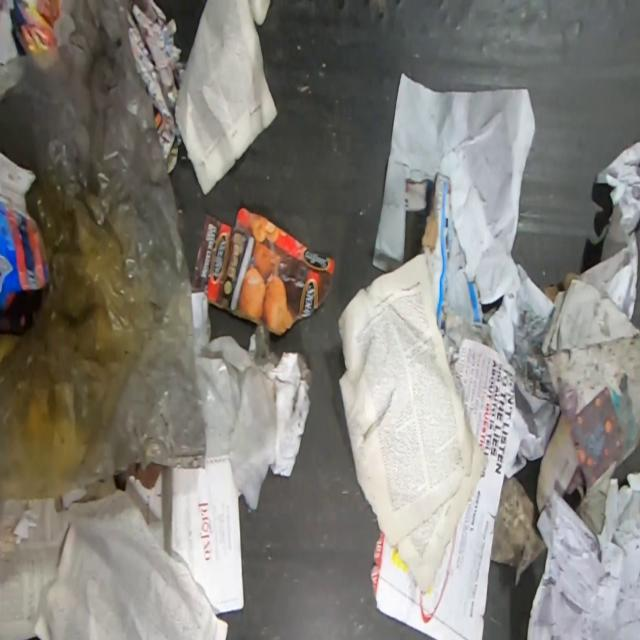cardboard: (192, 205, 336, 336), (402, 172, 483, 340), (0, 154, 53, 313)
soft_plastic: (0, 0, 206, 508)
